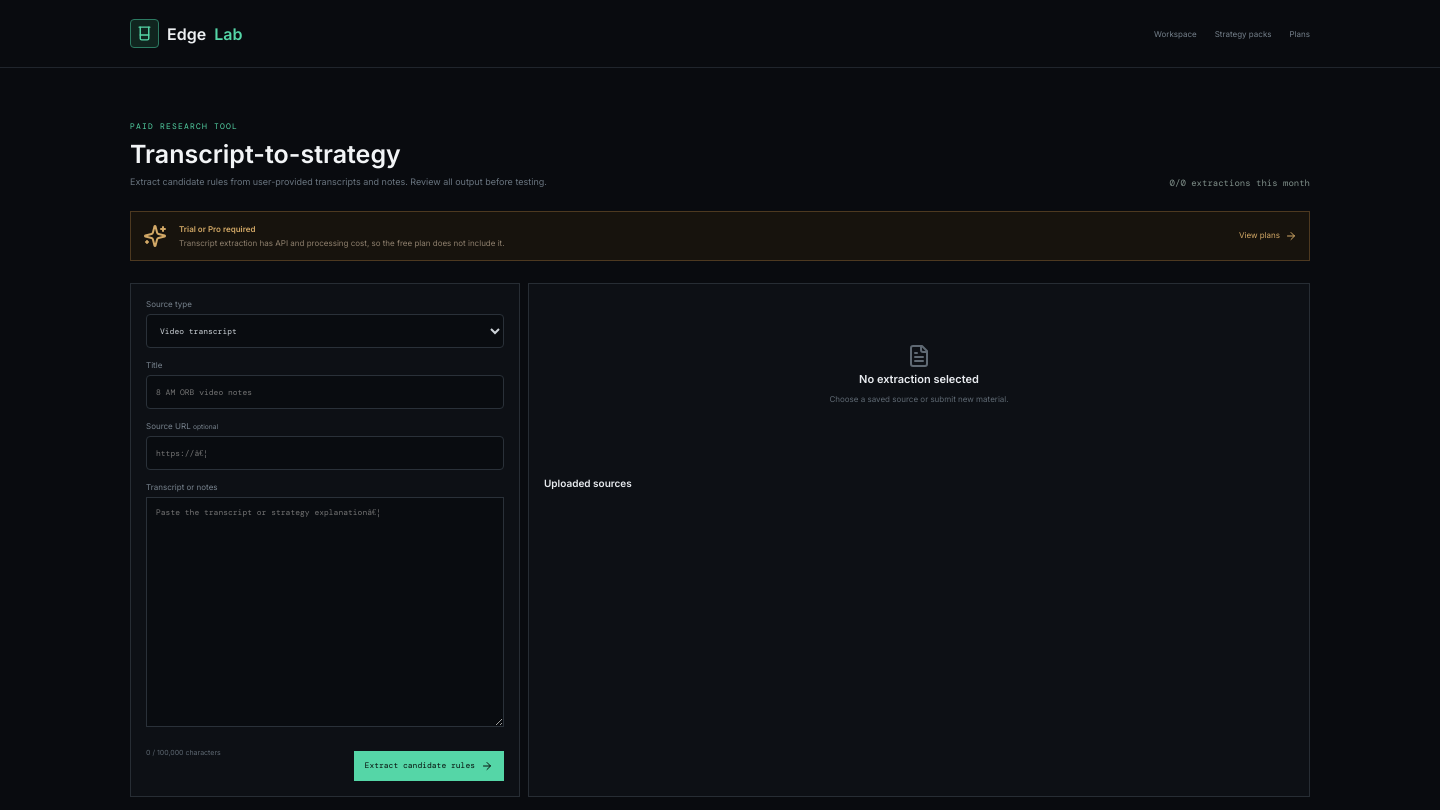
Test: transcript and admin operations › explains why transcript extraction is unavailable on free
The width and height of the screenshot is (1440, 810).
Expected: the text "Trial or Pro required" is shown, [179,224,255,234]
Expected: the text "0/0 extractions this month" is shown, [1170,177,1310,189]
Click the button "Extract candidate rules".
click(429, 766)  # box [354,751,504,781]
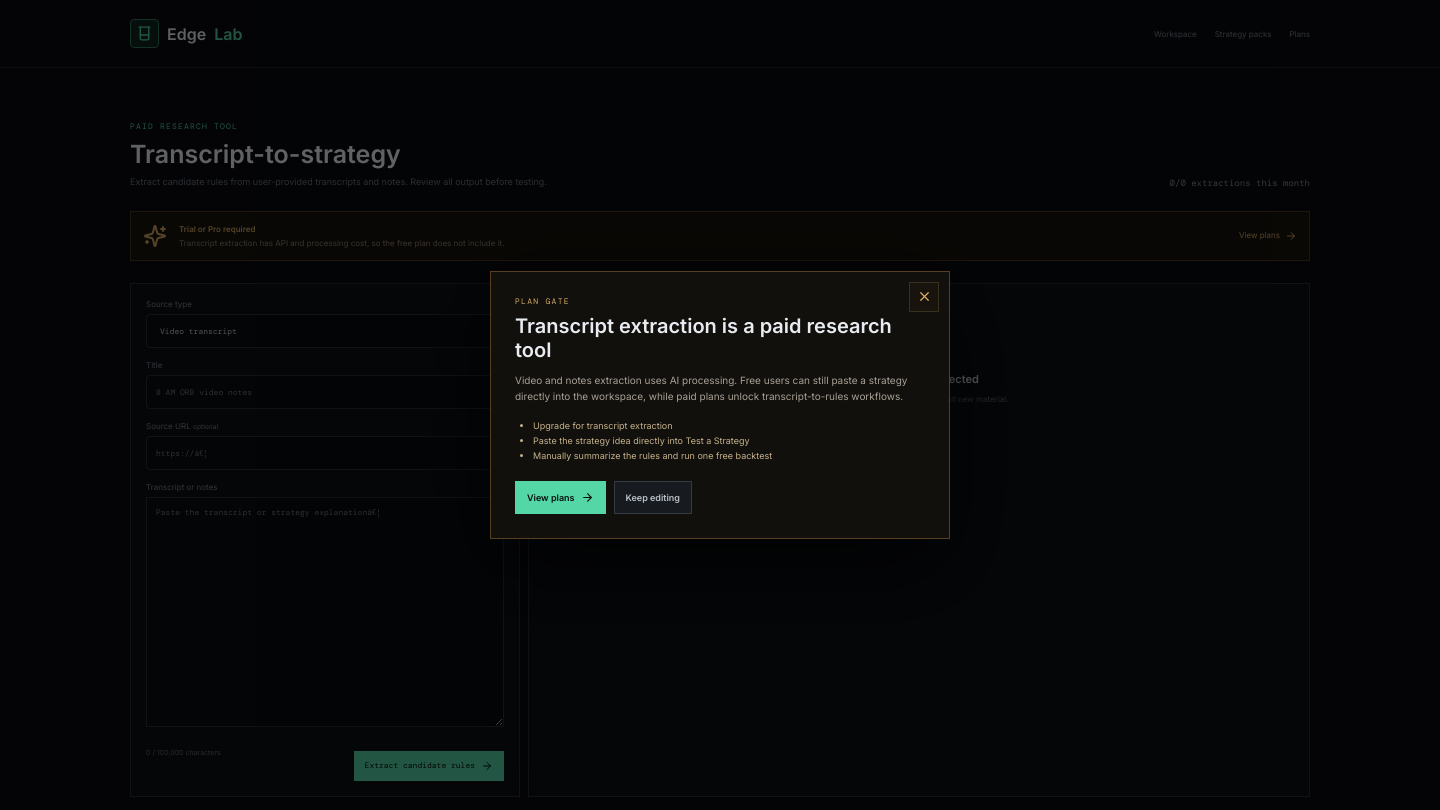
Expected: the heading "Transcript extraction is a paid research tool" is shown, [515,314,897,362]
